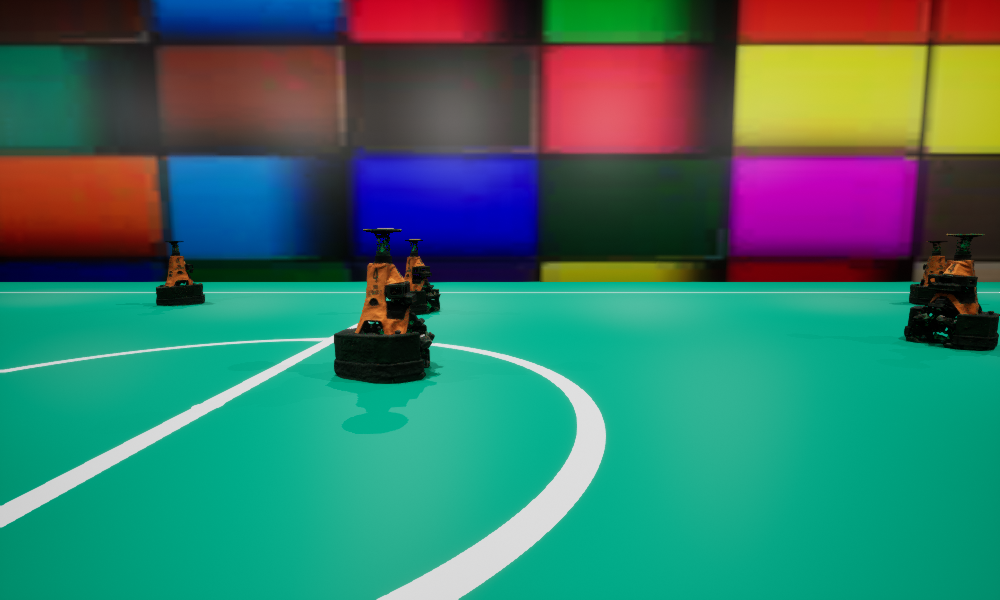0 orange robot TechUnited: (334, 228, 434, 383), (904, 233, 999, 349), (391, 239, 440, 314), (156, 241, 204, 305), (909, 241, 947, 305)
